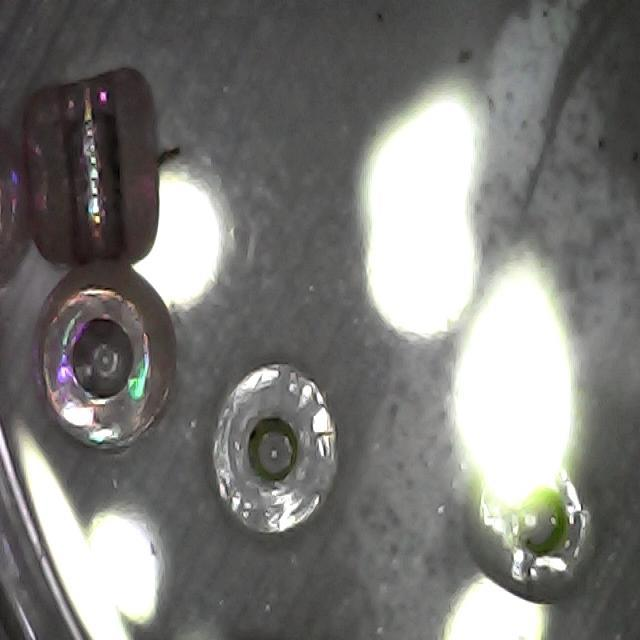beads: (445, 440, 622, 617), (17, 66, 167, 271), (203, 358, 349, 540), (39, 263, 175, 449)
